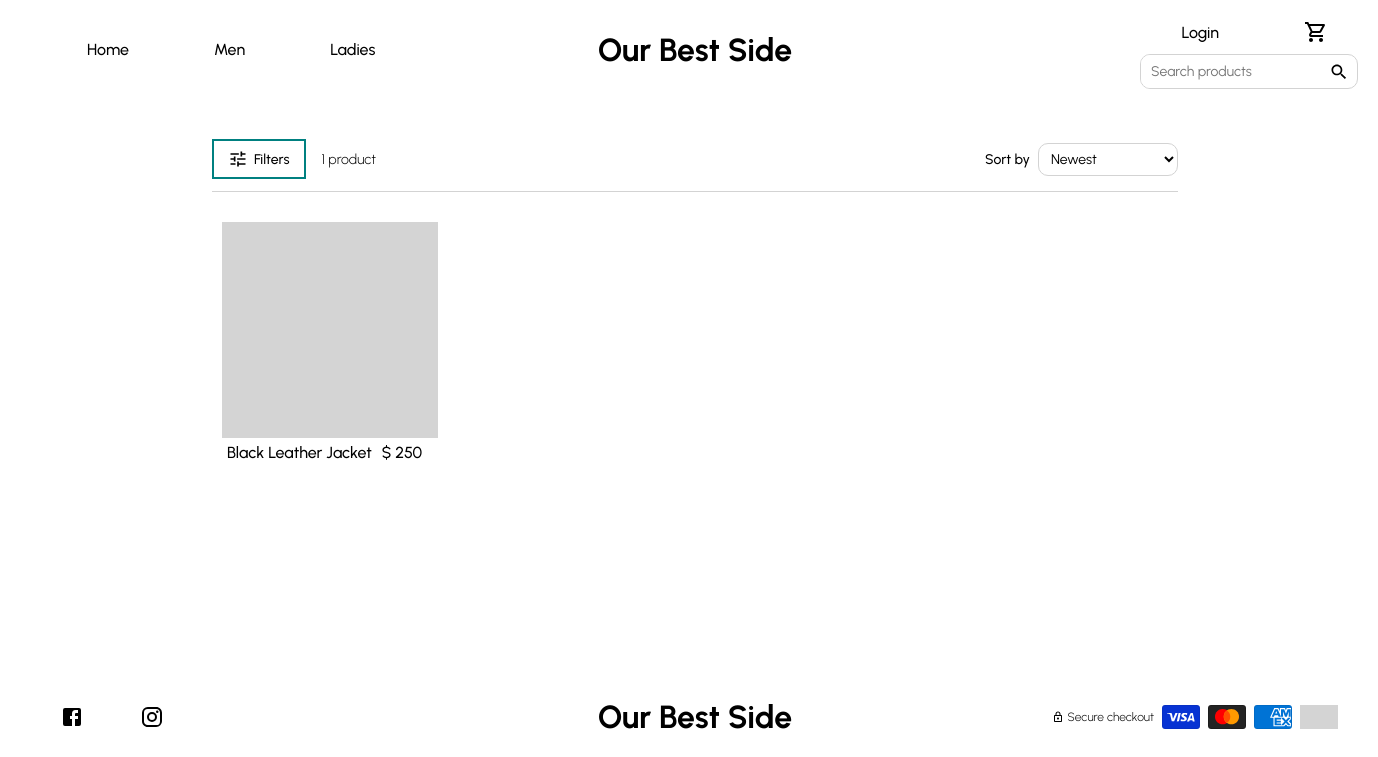
ProductGrid › applies a price range on Enter and clears all filters
Click the button "Filters": (259,159) [212,139,306,179]
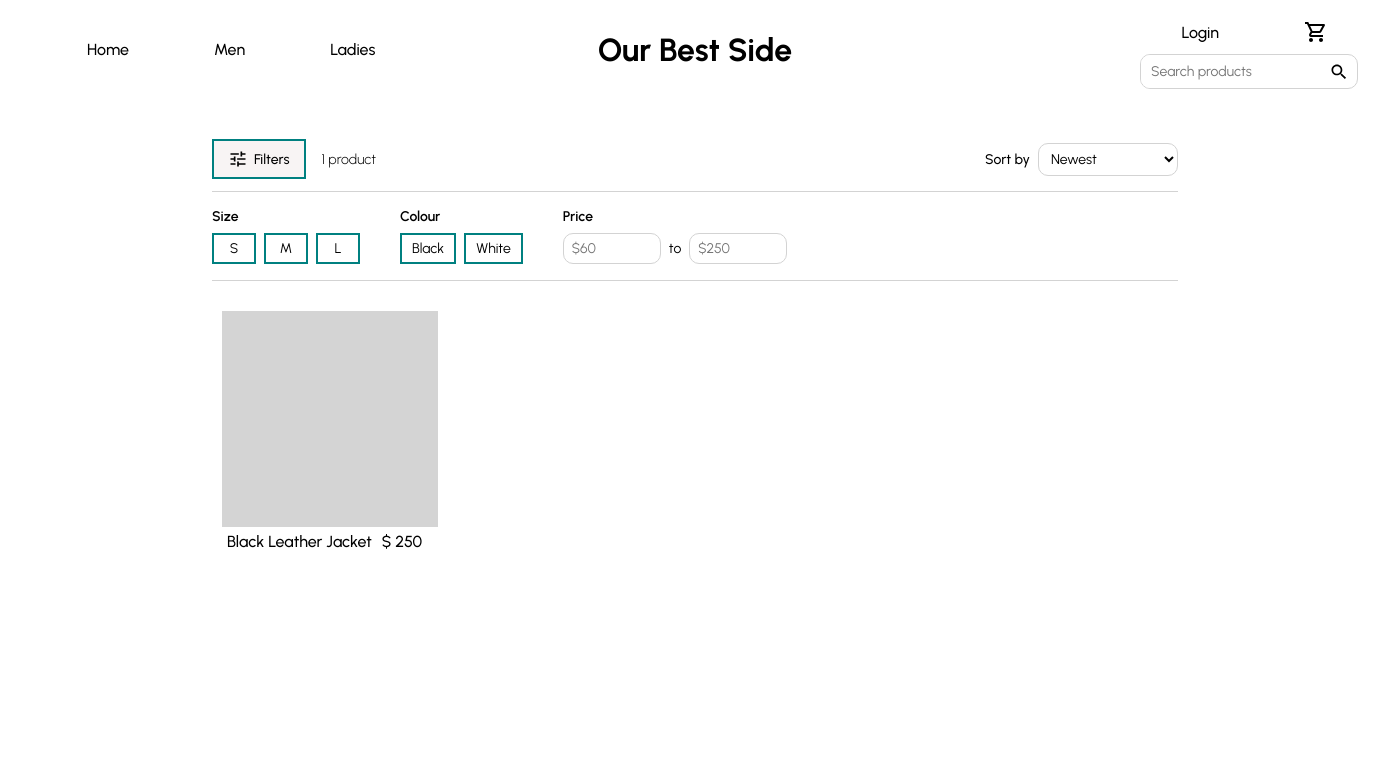
In the number field named "Minimum price": (612,248) [563,233,661,264], type "50"
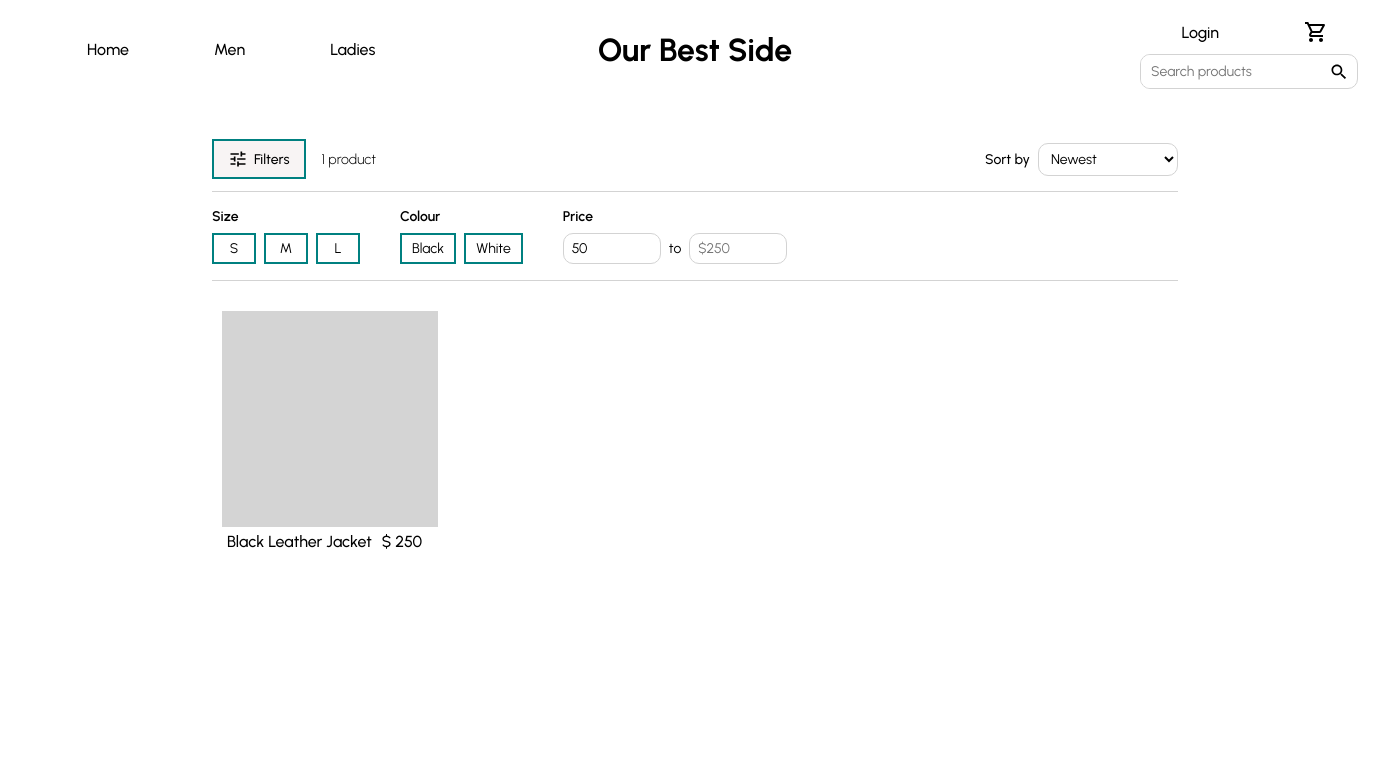
Press Enter in the number field named "Minimum price", box [563,233,661,264]
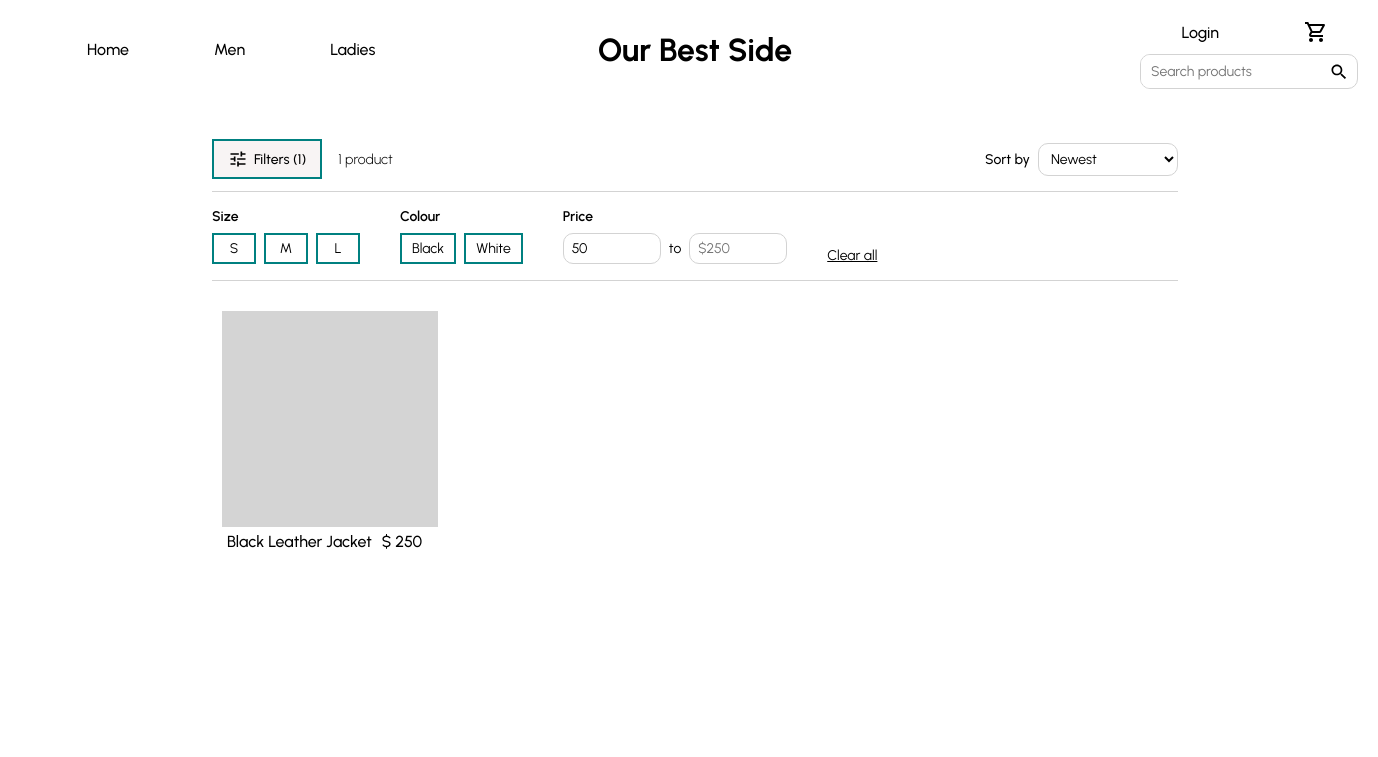
Invalid prices are ignored rather than sent.
In the number field named "Maximum price": (738,248) [689,233,787,264], type "-3"
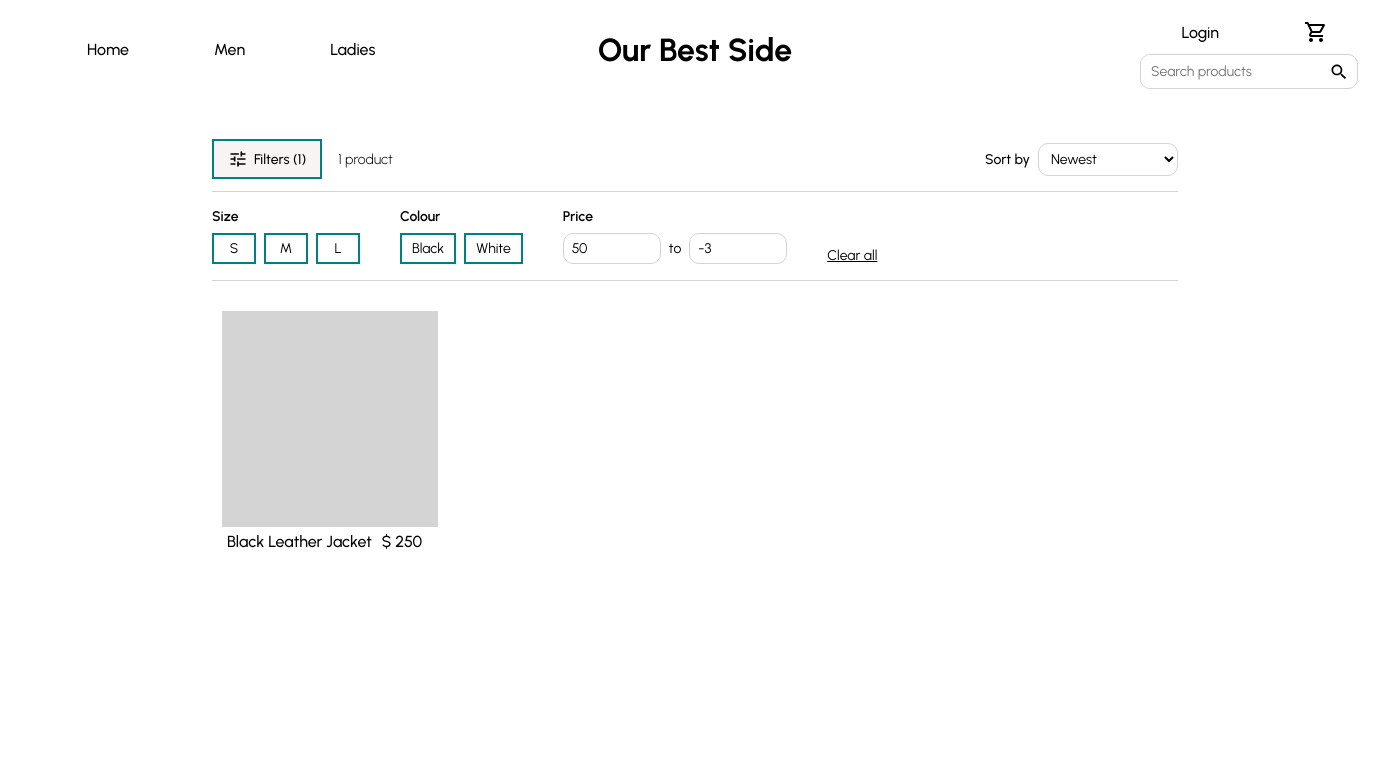
Click the button "Clear all": (852,256) [827,247,877,264]
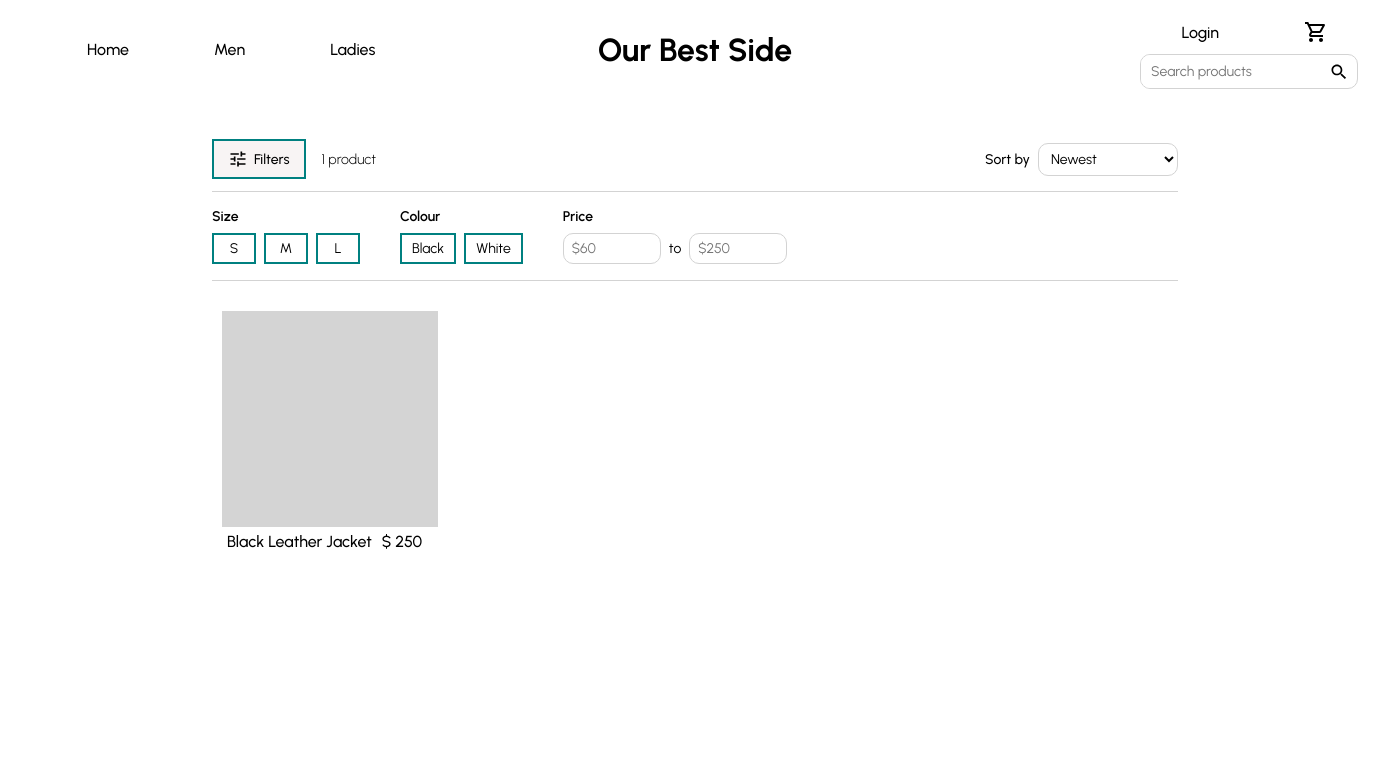
Check: the number field named "Minimum price" is not empty, box [563,233,661,264]
